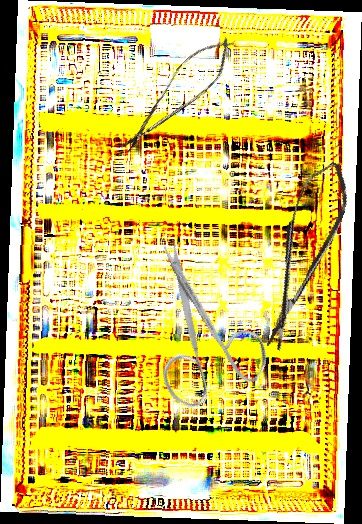Iris Scissors: (98, 237, 296, 431)
Micro Scissor: (245, 155, 360, 355), (109, 24, 246, 167)
